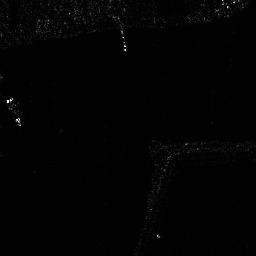ship: (4, 96, 22, 126)
